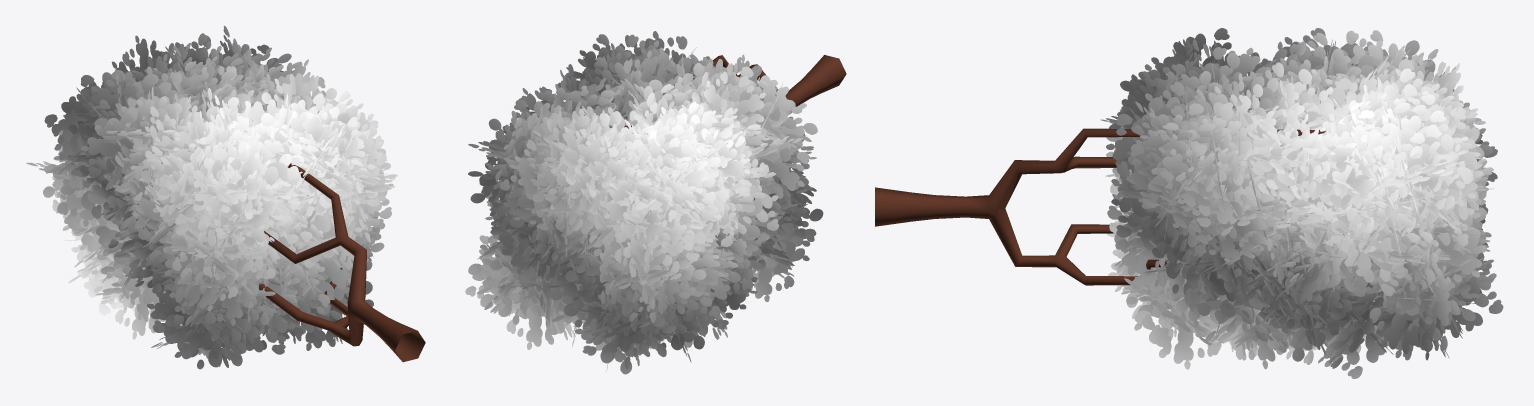
Rendered from StylisedTree9.fbx.
The picture shows the model from 3 angles, left to right: view 1: azimuth 30°, elevation 25°; view 2: azimuth 150°, elevation 25°; view 3: azimuth 270°, elevation 25°; orthographic projection. The views are drawn at different scales.
Visible parts, largest first — view 1: Leaf2Plane.153; view 2: Leaf2Plane.153; view 3: Leaf2Plane.153.
Boxes of the visible parts, x1=… form: Leaf2Plane.153: x1=26, y1=25, x2=425, y2=369; Leaf2Plane.153: x1=465, y1=31, x2=846, y2=374; Leaf2Plane.153: x1=875, y1=28, x2=1503, y2=378.
Bounding box in the file's own units: 241 × 226 × 433.
